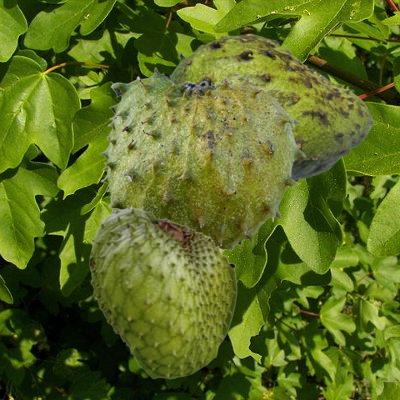guyabano: (99, 66, 305, 250), (166, 33, 372, 181), (89, 204, 236, 378)
